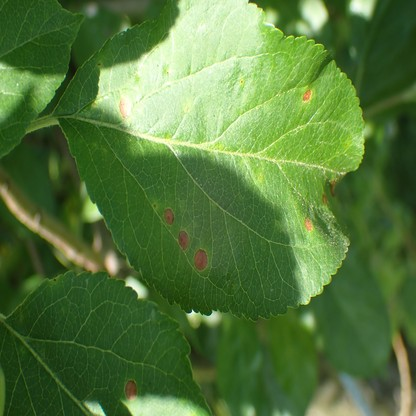frogeye_leaf_spot: (322, 180, 335, 207), (193, 249, 208, 271), (119, 96, 132, 118), (125, 378, 137, 400), (178, 229, 189, 250), (164, 207, 175, 225), (302, 87, 311, 102), (304, 216, 312, 231)
